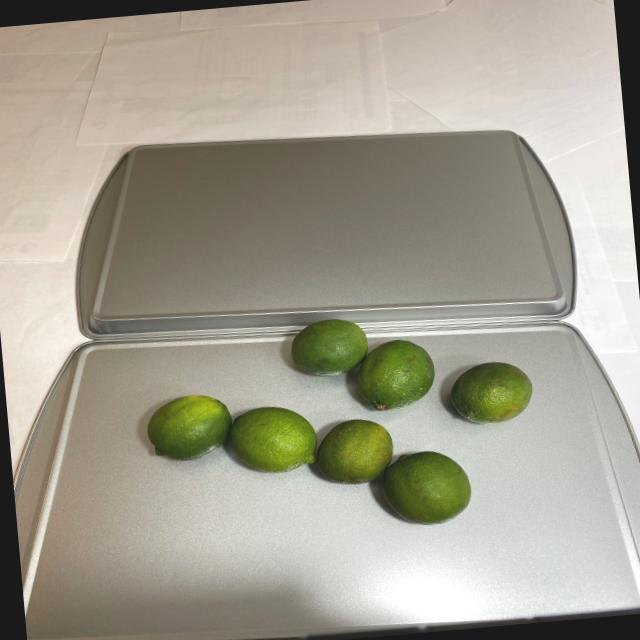lemon: (132, 301, 542, 550)
